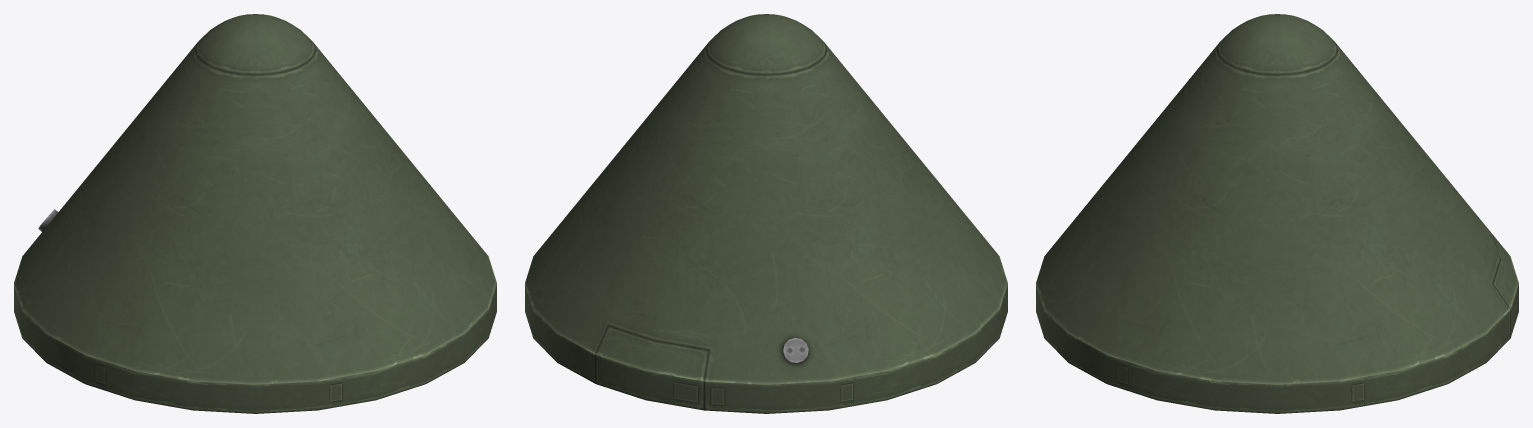
Rendered from sargas_control_s1p5_2.obj.
3 views of the same model, side by side, from view 1: azimuth 30°, elevation 25°; view 2: azimuth 150°, elevation 25°; view 3: azimuth 270°, elevation 25° (orthographic).
Parts seen in each view (by area): view 1: 1; view 2: 1; view 3: 1.
Boxes of the visible parts, x1,y1,x2,y2 form: 1: (14, 14, 496, 413); 1: (525, 14, 1007, 413); 1: (1036, 14, 1518, 413).
Bounding box in the file's own units: 1.88 × 1.25 × 1.88.
Materials: 1 (1 with a texture image).
